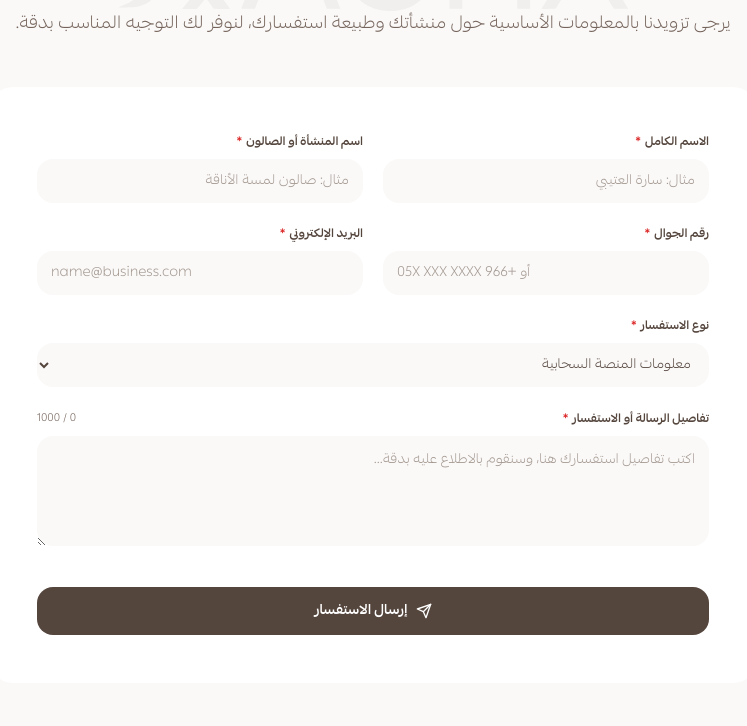
Test: RASHX Contact Page Sections Suite › Section B: ContactForm › displays validation errors when submitting an empty form
(page scrolled)
Click the button "إرسال الاستفسار". click: (373, 611)
box: [37,587,709,635]
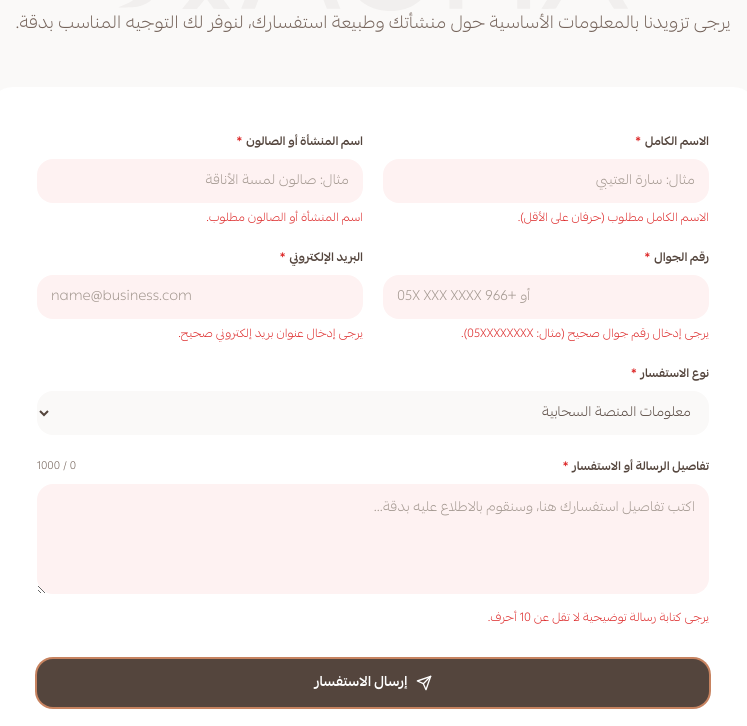
Result: the text "الاسم الكامل مطلوب (حرفان على الأقل)." is shown at [518,209,709,228]
Result: the text "اسم المنشأة أو الصالون مطلوب." is shown at [206,209,363,228]
Result: the text "يرجى إدخال رقم جوال صحيح (مثال: 05XXXXXXXX)." is shown at [461,325,709,344]
